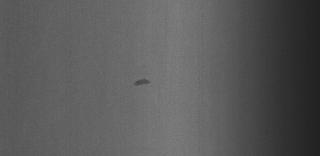oil spot: (132, 74, 156, 91)
